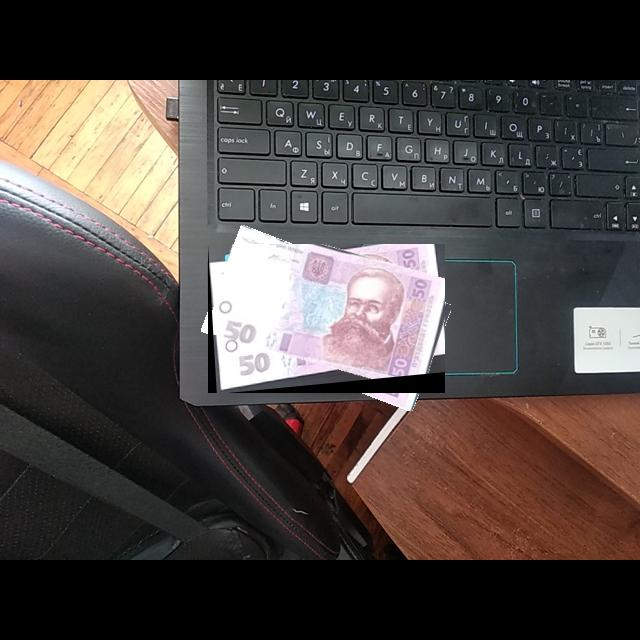50uah: (208, 244, 446, 394)
